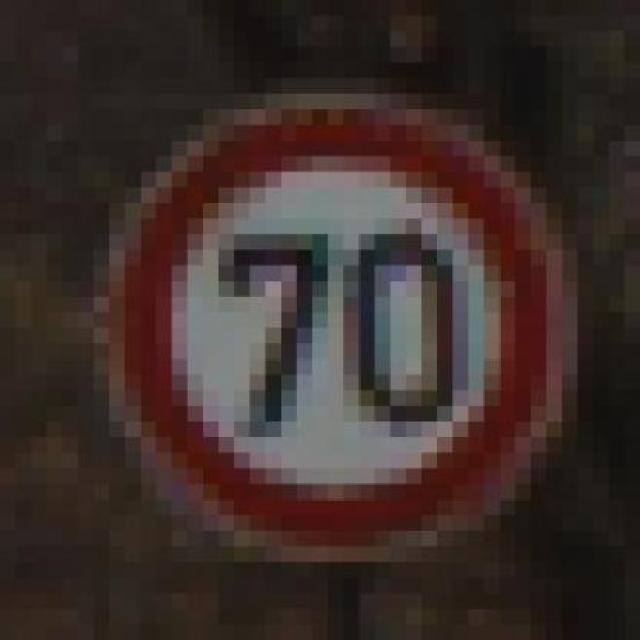forb_speed_over_70: (114, 105, 554, 549)
